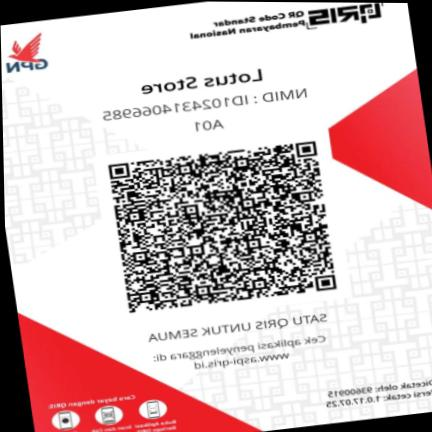Qris-Positioning: (1, 2, 432, 432)
